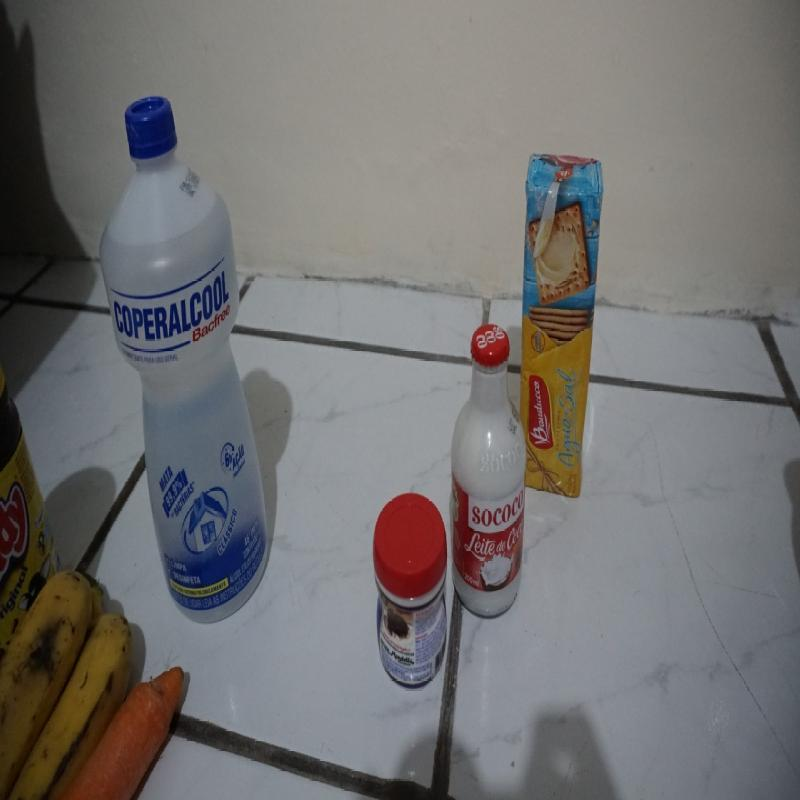Alcohol Bottle: (105, 97, 278, 605)
Banana: (3, 570, 97, 758)
Carrot: (104, 659, 192, 793)
Chocolate Powder: (1, 376, 49, 570)
Coconut Milk: (455, 325, 524, 618)
Cracker: (529, 150, 603, 498)
Yeast: (370, 489, 448, 680)
